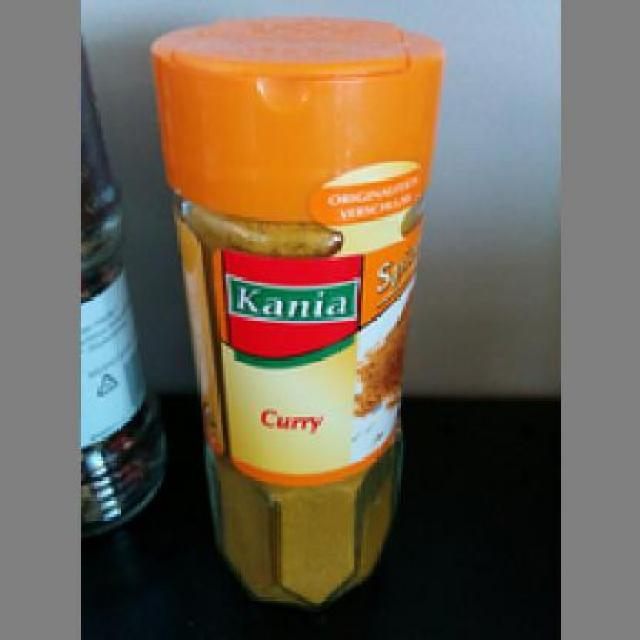Spices: (146, 8, 443, 606)
